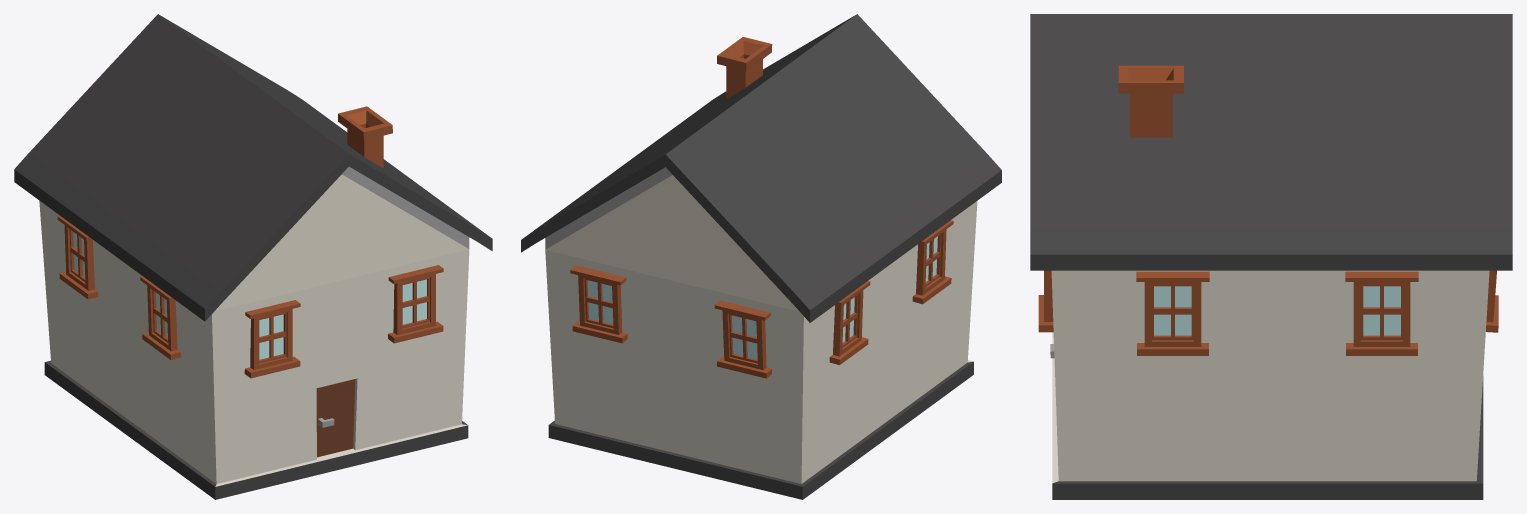
File: House2.glb
3 views of the same model, side by side, from view 1: azimuth 30°, elevation 25°; view 2: azimuth 150°, elevation 25°; view 3: azimuth 270°, elevation 25° (orthographic). The views are drawn at different scales.
Visible parts, largest first — view 1: House2; view 2: House2; view 3: House2.
Boxes of the visible parts, x1,y1,x2,y2 form: House2: (14, 14, 492, 499); House2: (521, 14, 1001, 499); House2: (1030, 14, 1512, 499).
Bounding box in the file's own units: 1.25 × 1.34 × 1.44.
1 material, 1 textured.
